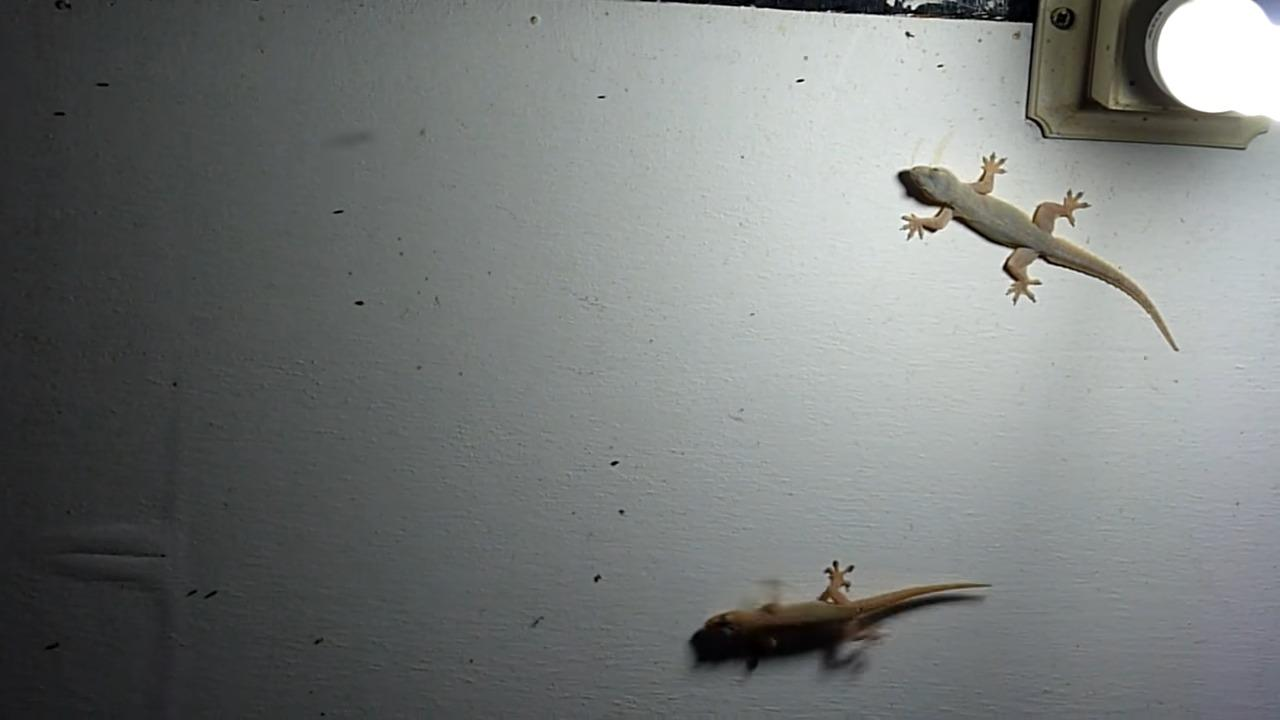lizard: (885, 145, 1191, 363), (677, 542, 1006, 679)
